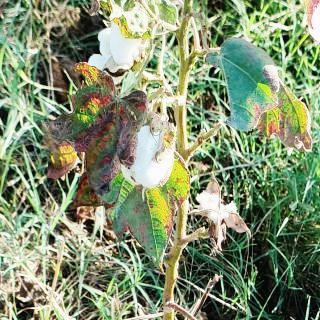blight: (36, 66, 149, 206)
